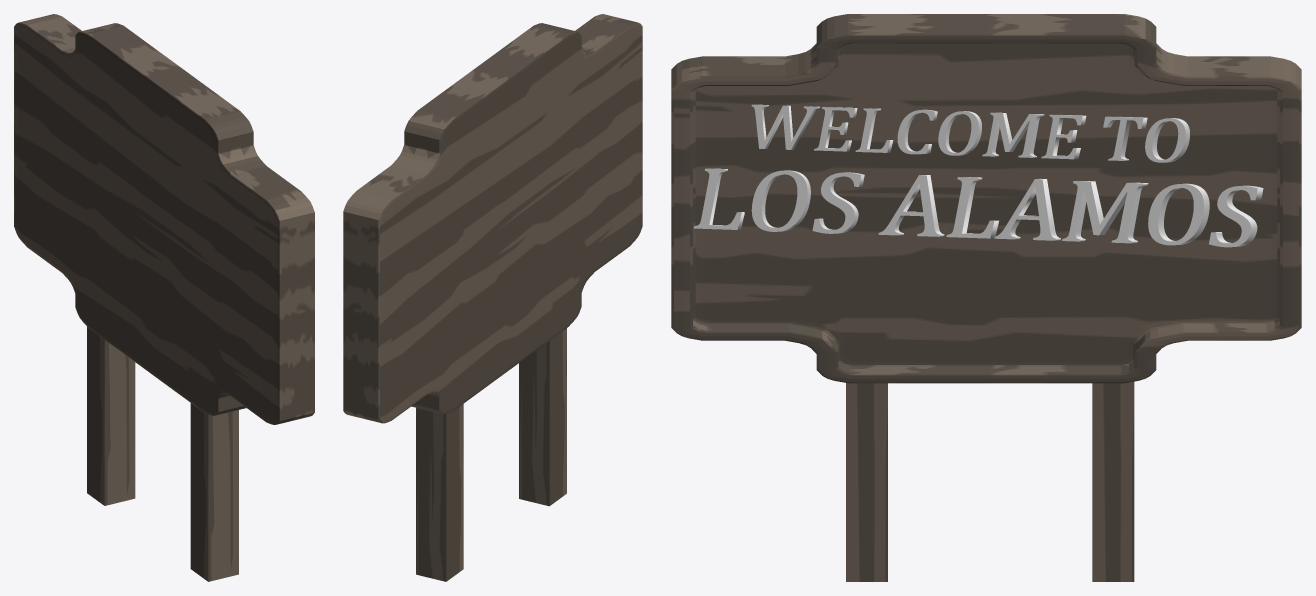
The model's file is struct1.glb.
3 renders of one model, left to right at view 1: azimuth 30°, elevation 25°; view 2: azimuth 150°, elevation 25°; view 3: azimuth 270°, elevation 25°, orthographic. The views are drawn at different scales.
Visible parts, largest first — view 1: Cube.001, Cube.012, Cube.011; view 2: Cube.001, Cube.011, Cube.012; view 3: Cube.001, Text, Text.001, Cube.011, Cube.012.
Part boxes in pixels (x1,y1,x2,y2): Cube.001: (14, 14, 314, 424); Cube.012: (190, 403, 238, 581); Cube.011: (87, 327, 135, 505); Cube.001: (343, 14, 642, 423); Cube.011: (416, 404, 463, 581); Cube.012: (519, 328, 566, 506); Cube.001: (671, 14, 1301, 383); Text: (693, 168, 1263, 247); Text.001: (751, 104, 1189, 162); Cube.011: (1092, 381, 1134, 581); Cube.012: (846, 383, 887, 581).
Bounding box in the file's own units: 0.0323 × 0.3933 × 0.4094.
Materials: 2 (1 with a texture image).
